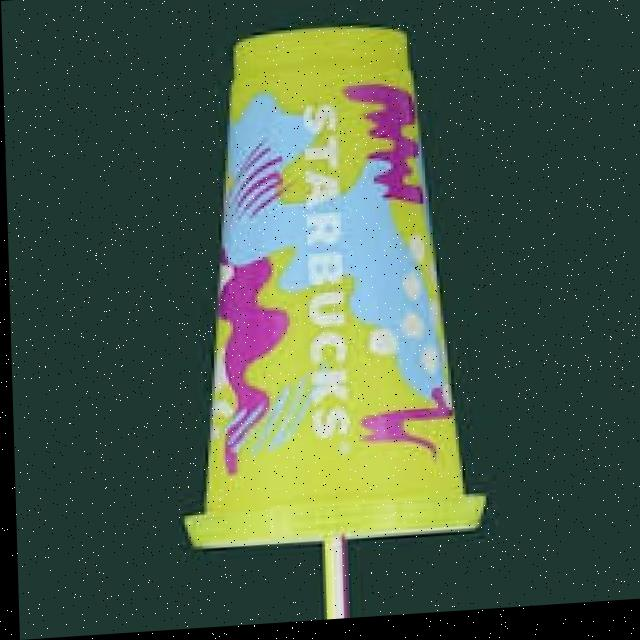cup: (137, 0, 502, 598)
